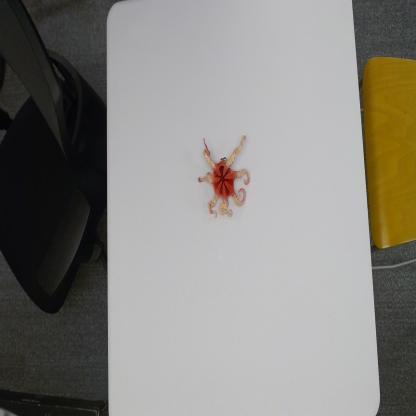Octopus: (197, 130, 251, 220)
